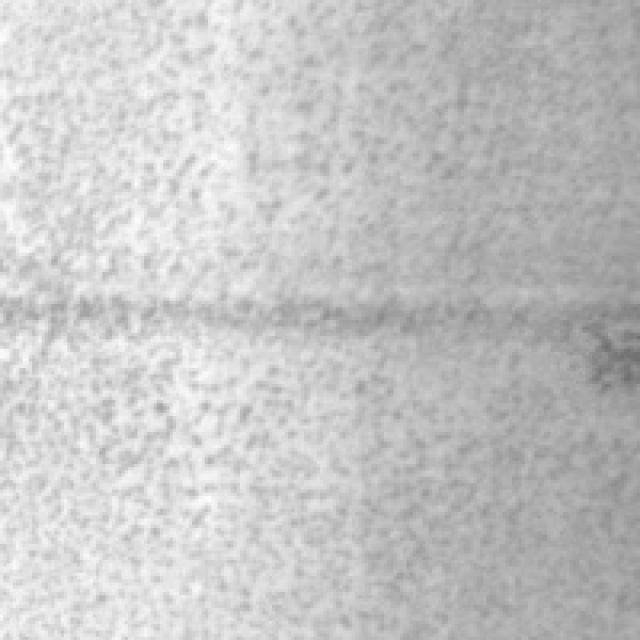pitted_surface: (0, 0, 630, 630)
